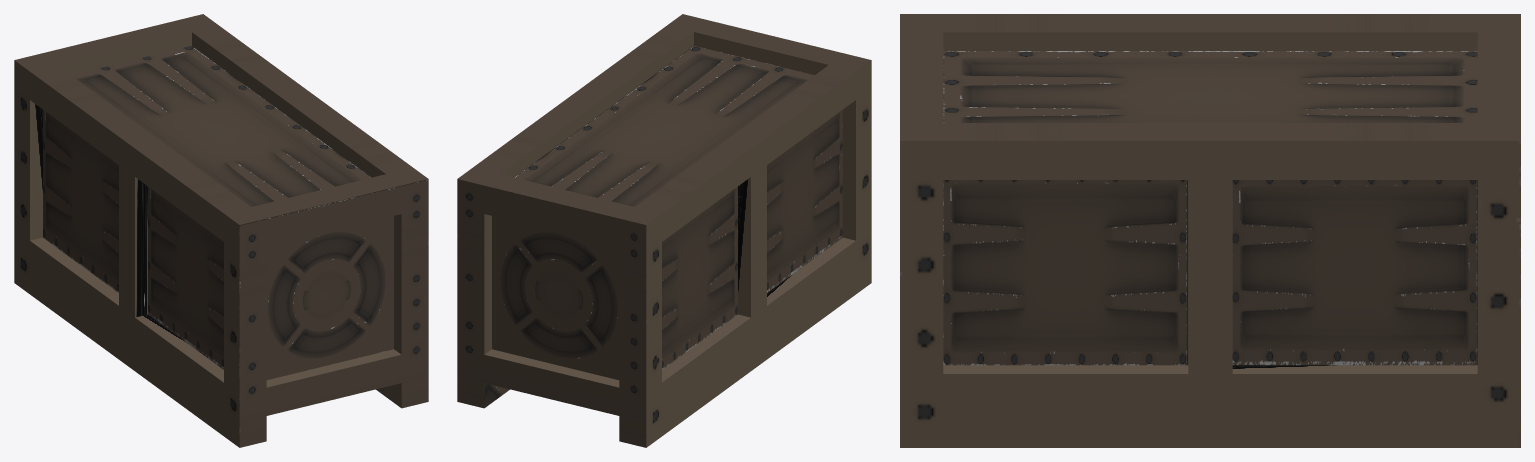
File: Crate_Large.fbx
The picture shows the model from 3 angles, left to right: view 1: azimuth 30°, elevation 25°; view 2: azimuth 150°, elevation 25°; view 3: azimuth 270°, elevation 25°; orthographic projection. The views are drawn at different scales.
Visible parts, largest first — view 1: Crate_Large; view 2: Crate_Large; view 3: Crate_Large.
Part boxes in pixels (left/top/right/bottom): Crate_Large: left=14, top=14, right=428, bottom=447; Crate_Large: left=457, top=14, right=871, bottom=447; Crate_Large: left=900, top=14, right=1520, bottom=447.
Bounding box in the file's own units: 1.59 × 1.8 × 3.29.
